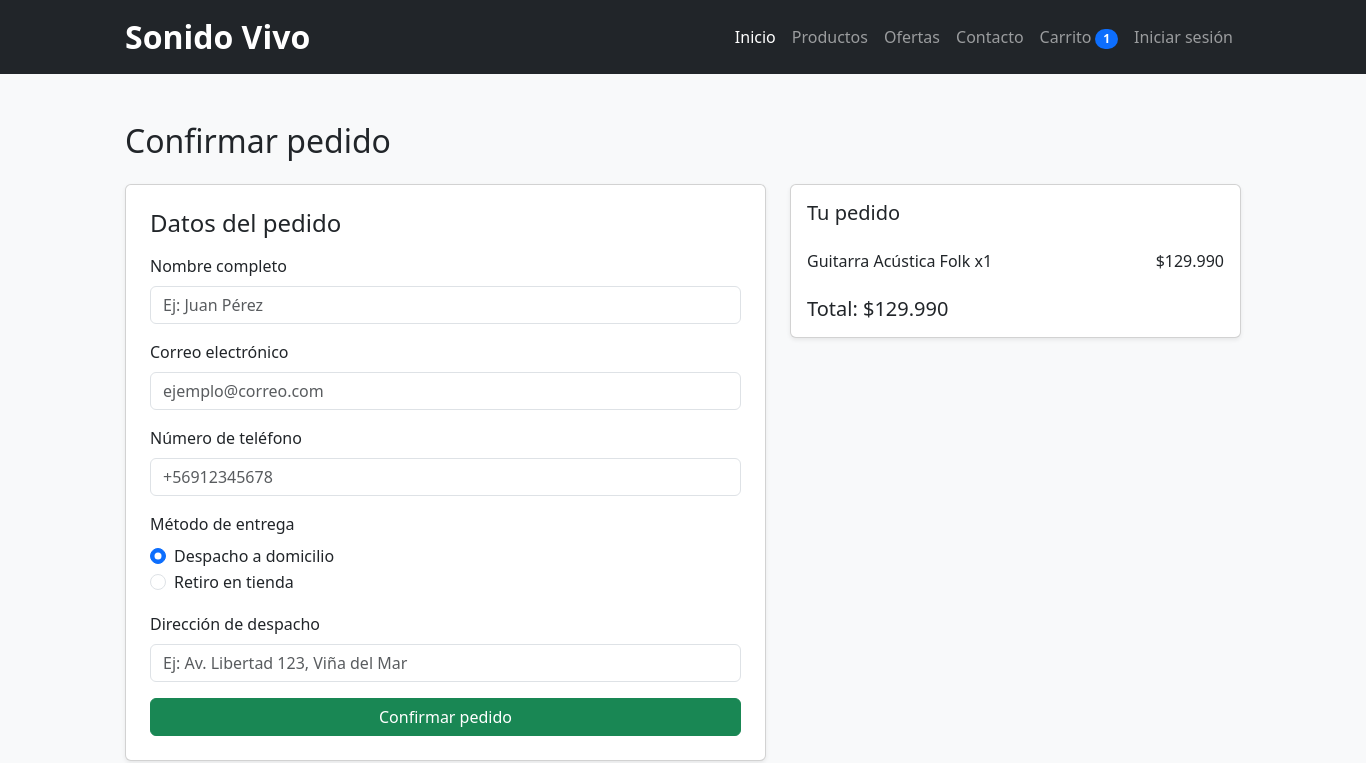
Test case: CheckoutPage › no crea el pedido ni toca el carrito si el formulario es inválido
Click the button "Confirmar pedido": (446, 717) x1=150 y1=698 x2=741 y2=736
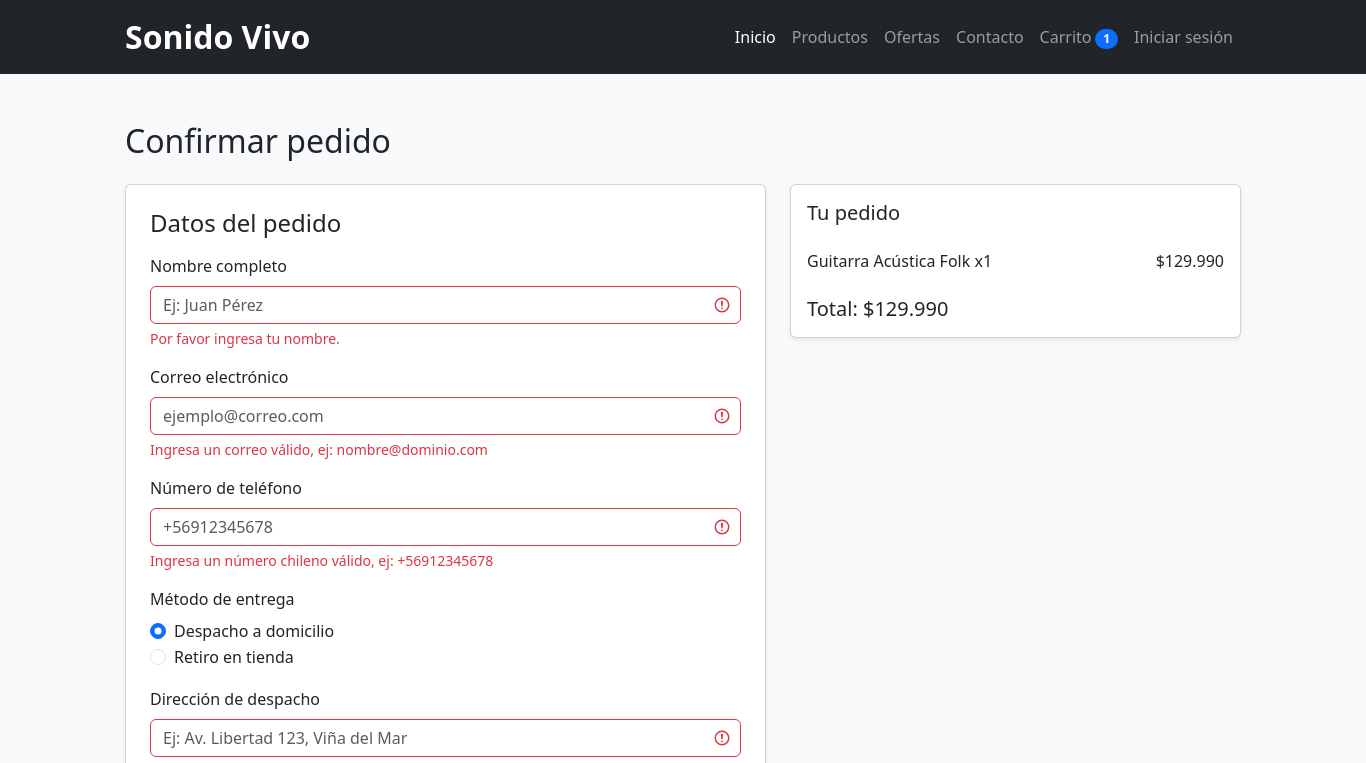
Result: the text "Por favor ingresa tu nombre." is shown at x1=150 y1=329 x2=340 y2=348
